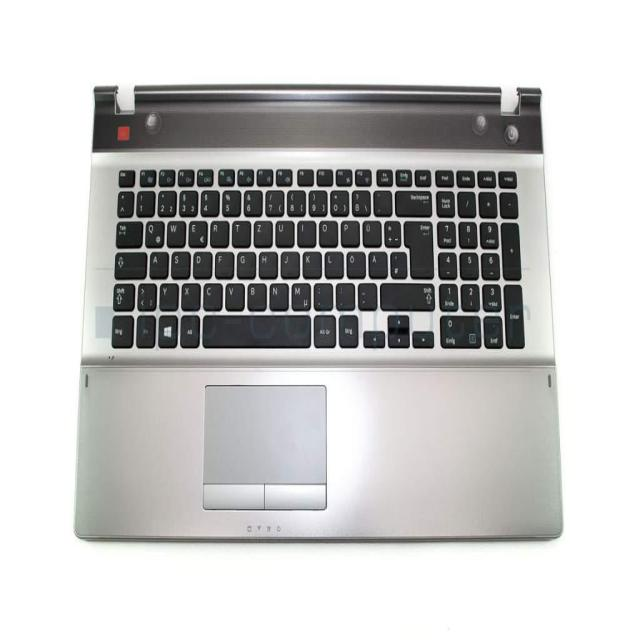0: (327, 186, 347, 213)
1: (134, 187, 153, 214)
2: (155, 186, 174, 214)
3: (176, 186, 196, 214)
4: (199, 186, 218, 213)
5: (219, 186, 239, 213)
6: (241, 186, 260, 213)
7: (263, 186, 282, 214)
8: (284, 186, 304, 214)
9: (306, 186, 326, 214)
a: (148, 248, 167, 276)
accent: (371, 187, 390, 214)
ae: (366, 248, 386, 276)
alt-left: (178, 312, 198, 347)
altgr-right: (312, 312, 335, 346)
b: (244, 280, 265, 309)
c: (201, 280, 221, 308)
caret: (115, 187, 131, 214)
comma: (311, 280, 331, 308)
d: (191, 248, 210, 276)
del: (393, 186, 431, 214)
e: (186, 217, 206, 245)
enter: (401, 216, 432, 276)
f: (212, 248, 232, 276)
g: (234, 248, 254, 276)
h: (256, 248, 276, 276)
hash: (388, 248, 406, 276)
i: (295, 217, 314, 245)
j: (278, 248, 298, 276)
k: (300, 248, 320, 276)
keyboard: (102, 149, 534, 361)
l: (322, 248, 342, 276)
less: (135, 280, 155, 309)
m: (289, 280, 309, 309)
minus: (355, 279, 375, 307)
n: (267, 280, 287, 308)
o: (316, 216, 336, 244)
oe: (344, 248, 364, 276)
p: (339, 216, 358, 244)
plus: (382, 217, 399, 245)
point: (333, 280, 353, 308)
q: (143, 217, 163, 245)
r: (208, 217, 228, 245)
s: (169, 248, 188, 276)
shift-left: (111, 280, 133, 309)
shift-lock: (112, 248, 145, 277)
shift-right: (378, 280, 433, 309)
space: (201, 311, 310, 346)
ss: (349, 186, 369, 213)
strg-left: (111, 314, 134, 348)
strg-right: (336, 312, 357, 346)
t: (229, 217, 249, 245)
tab: (113, 217, 141, 245)
u: (273, 217, 293, 245)
ue: (360, 217, 379, 245)
v: (223, 280, 243, 309)
w: (164, 217, 184, 245)
x: (179, 280, 199, 308)
y: (157, 280, 177, 309)
z: (251, 217, 271, 245)
